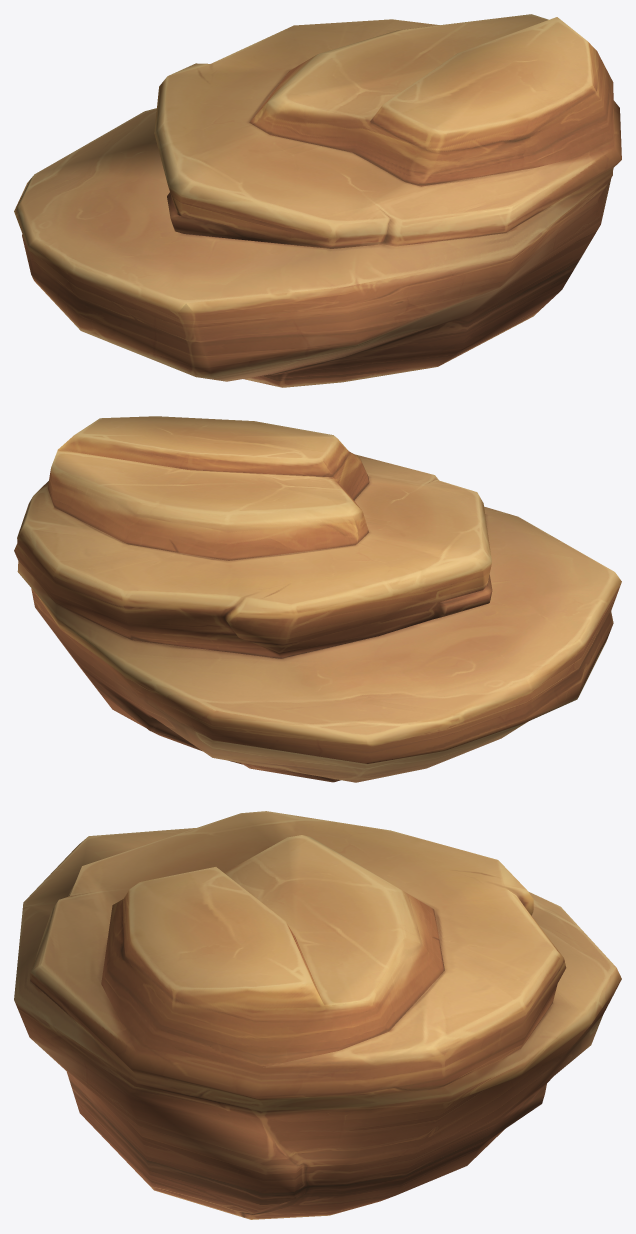
File: DE_Rock_04.fbx
3 views of the same model, one above another, from view 1: azimuth 30°, elevation 25°; view 2: azimuth 150°, elevation 25°; view 3: azimuth 270°, elevation 25° (orthographic). The views are drawn at different scales.
Parts seen in each view (by area): view 1: DE_Rock_04; view 2: DE_Rock_04; view 3: DE_Rock_04.
Boxes of the visible parts, x1,y1,x2,y2 form: DE_Rock_04: (14, 14, 621, 387); DE_Rock_04: (14, 416, 621, 782); DE_Rock_04: (14, 811, 621, 1219).
Bounding box in the file's own units: 16.74 × 7.04 × 14.07.
